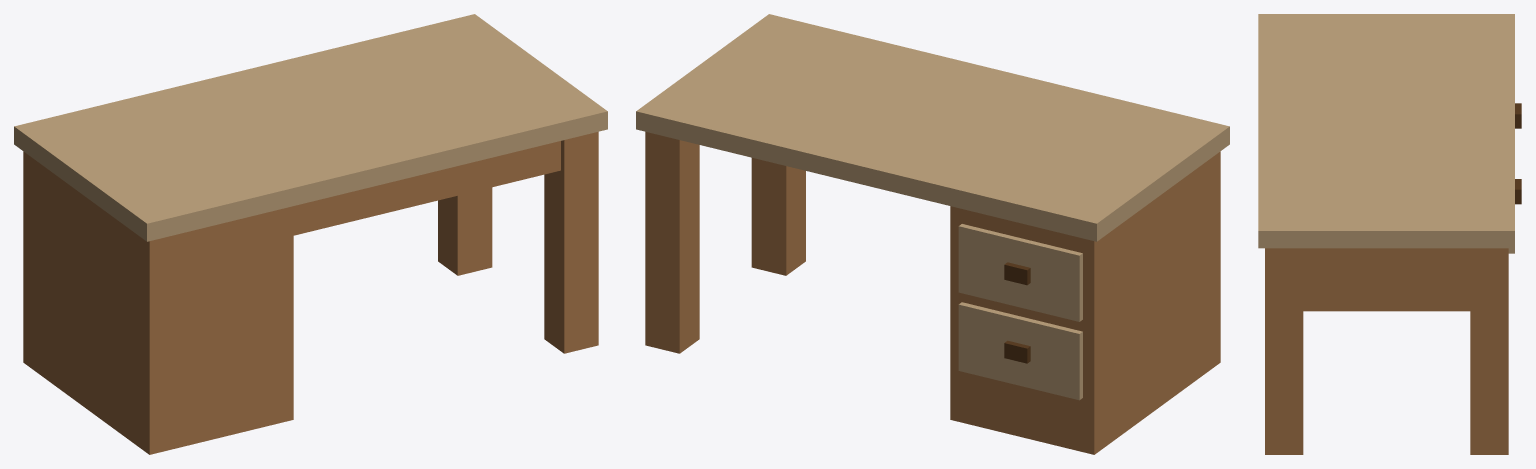
Rendered from ncb-desk-oak.glb.
3 views of the same model, side by side, from view 1: azimuth 30°, elevation 25°; view 2: azimuth 150°, elevation 25°; view 3: azimuth 270°, elevation 25° (orthographic). The views are drawn at different scales.
Visible parts, largest first — view 1: box-prop; view 2: box-prop; view 3: box-prop.
Part boxes in pixels (box(x1,y1,x2,y2)): box-prop: box(14, 14, 607, 454); box-prop: box(636, 14, 1229, 454); box-prop: box(1258, 14, 1521, 454).
Size of the model in its own units: 1.6 by 0.78 by 0.82.
